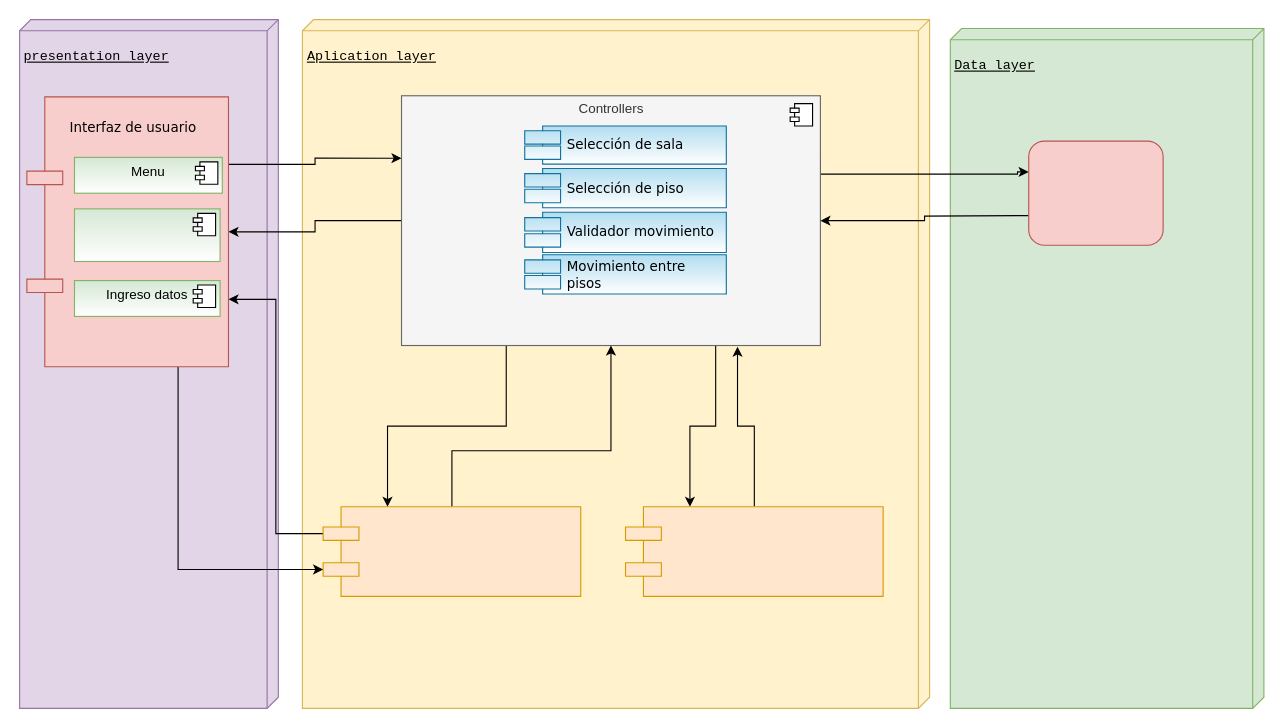
This 1284x728 diagram has some shape labels left out. The centre of each missing label's shape, as x and y in pixels:
"Calculo camino mas corto" goes at [451,551].
"Elementos internos Unity" goes at [1095,192].
"Validador de piso y salas" goes at [753,551].
"Visualiza Resultados" goes at [146,235].
